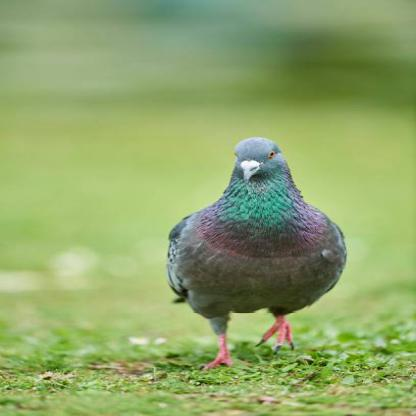Flying Rat: (163, 133, 357, 392)
